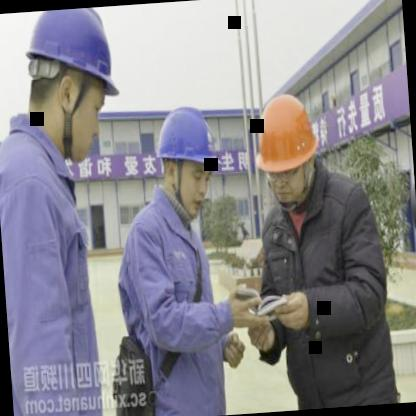helmet: (10, 6, 129, 171), (245, 80, 328, 216), (145, 95, 228, 222)
